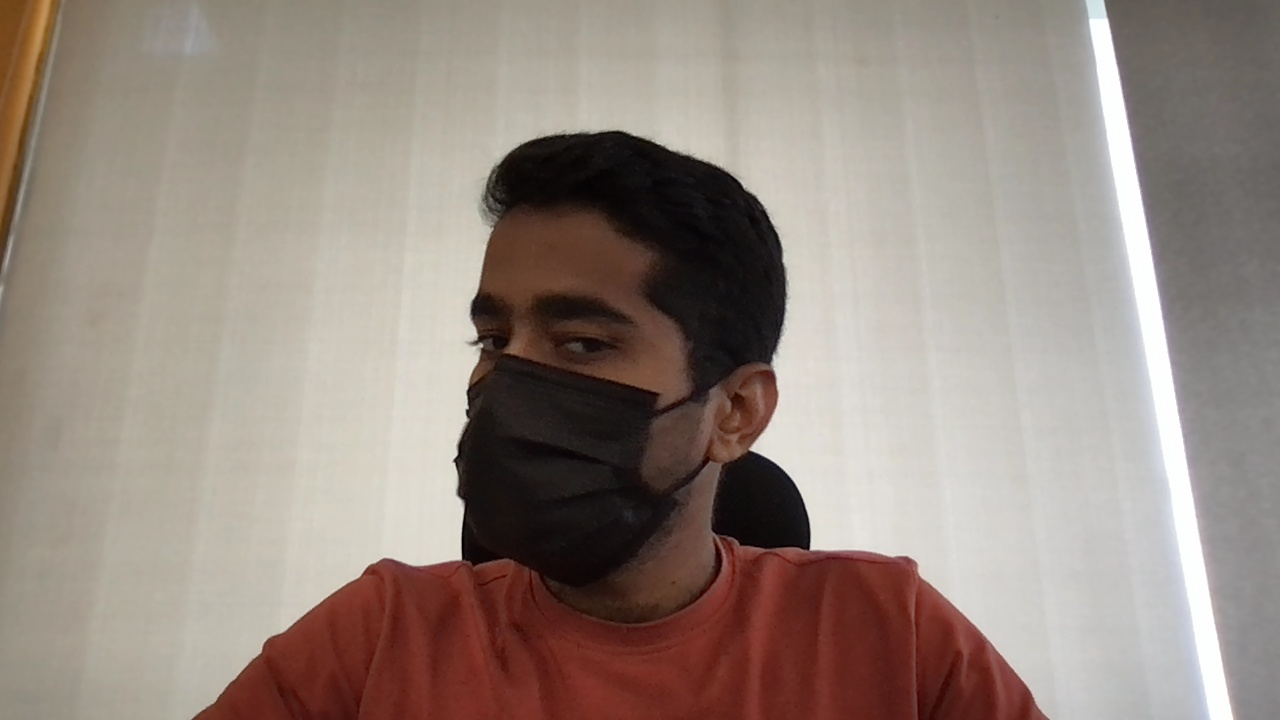mask: (449, 354, 682, 592)
